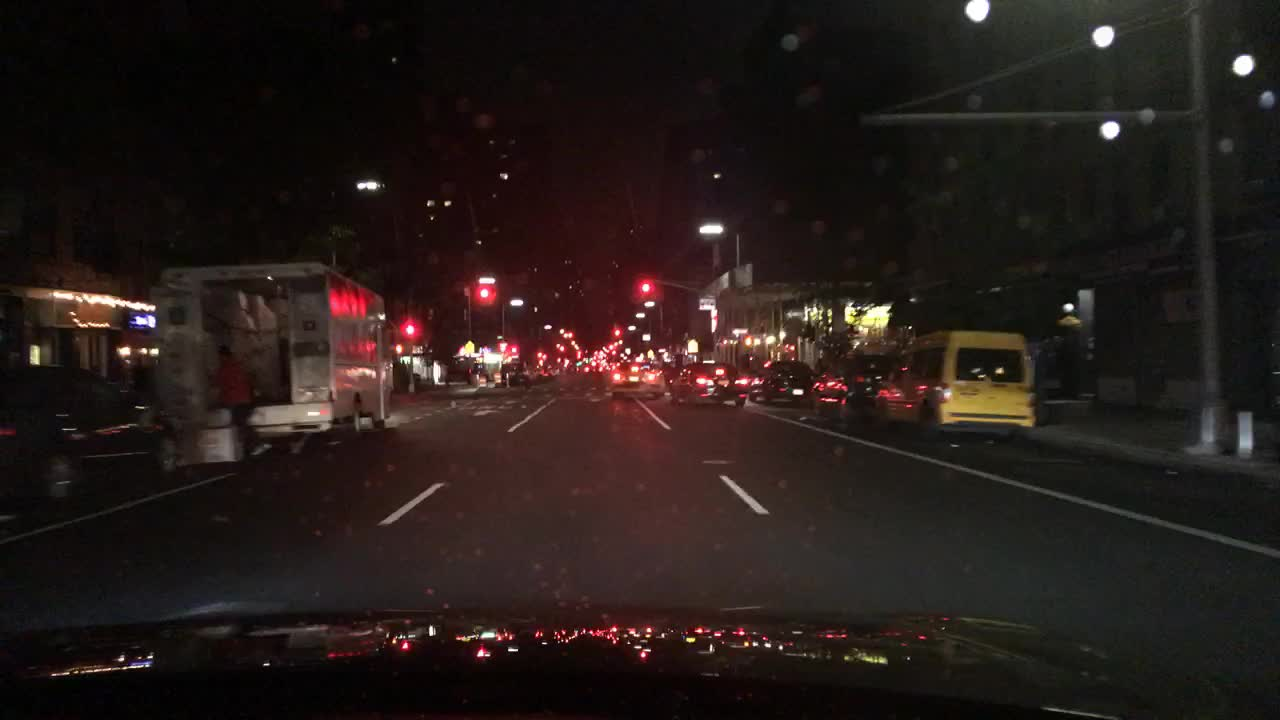car: (1, 360, 178, 519), (876, 327, 1039, 444), (806, 354, 899, 422), (670, 358, 748, 406), (1055, 300, 1090, 400), (747, 358, 818, 405), (609, 362, 668, 396), (441, 356, 487, 385), (531, 363, 553, 381), (510, 370, 530, 387), (562, 356, 578, 370), (582, 358, 596, 372)
person: (209, 342, 273, 466)
traffic light: (476, 275, 490, 306), (404, 311, 417, 338), (637, 274, 652, 297), (610, 322, 623, 340), (506, 338, 519, 354)
traffic sign: (686, 336, 698, 353), (464, 340, 478, 352)
truck: (148, 257, 395, 467)
